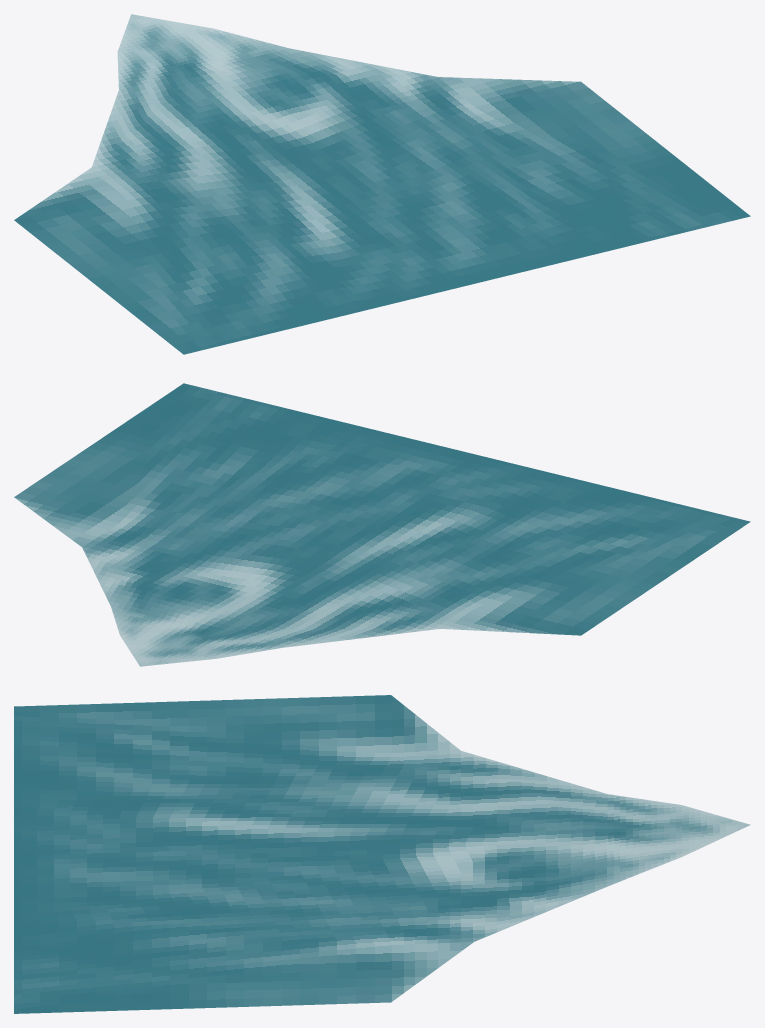
File: OceanWave.fbx
3 views of the same model, one above another, from view 1: azimuth 30°, elevation 25°; view 2: azimuth 150°, elevation 25°; view 3: azimuth 270°, elevation 25° (orthographic). The views are drawn at different scales.
Parts seen in each view (by area): view 1: OceanWave1; view 2: OceanWave1; view 3: OceanWave1.
Part boxes in pixels (x1=…): OceanWave1: x1=14, y1=14, x2=750, y2=354; OceanWave1: x1=14, y1=383, x2=750, y2=666; OceanWave1: x1=14, y1=695, x2=750, y2=1013.
Size of the model in its own units: 0.2 by 0.01 by 0.2026.
